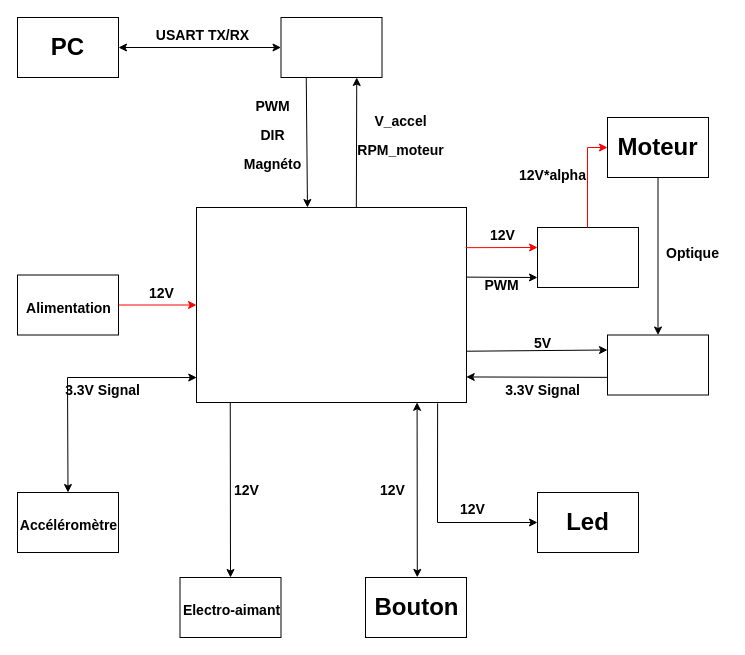
Image size: 745x655. Some labels were removed from this diagram. The shapes that lost their labels are listed below. From the top down, each one's centre as x and y in pixels, then its label:
At (x=331, y=47): "STM32".
At (x=587, y=257): "Hacheur".
At (x=331, y=304): "Circuit Imprimé".
At (x=657, y=364): "Encodeur".
